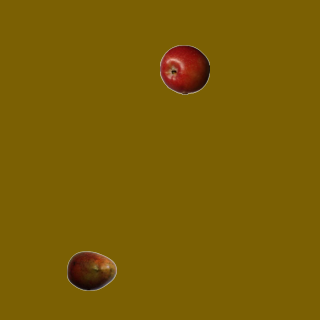Apple Braeburn: (159, 44, 209, 94)
Mango Red: (66, 245, 116, 295)
